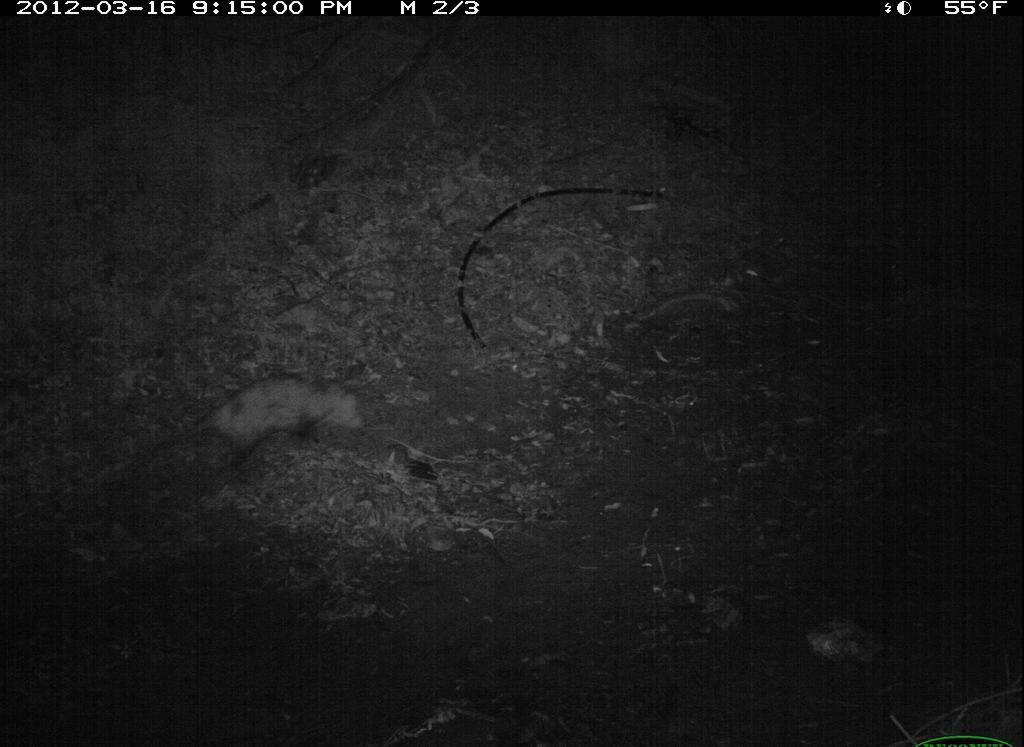opossum: (135, 368, 377, 491)
